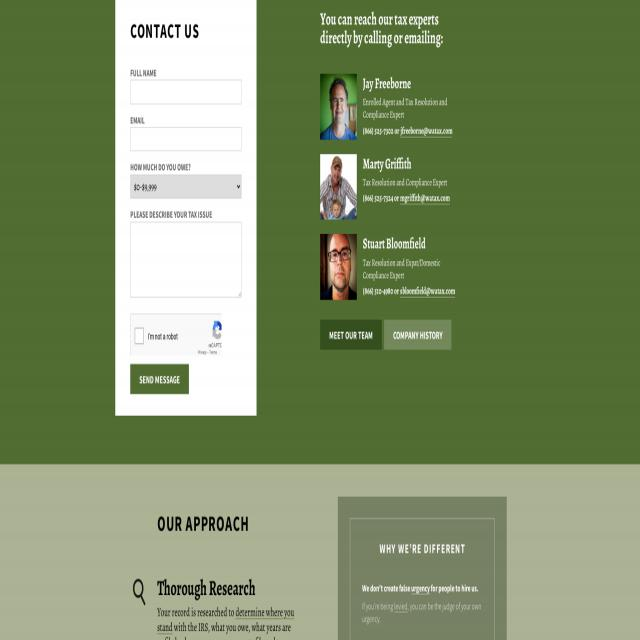button: (320, 154, 357, 220), (320, 234, 357, 300), (320, 74, 357, 139), (384, 320, 452, 350), (320, 320, 382, 350), (130, 364, 189, 395), (133, 579, 145, 606)
field: (131, 220, 241, 298), (130, 80, 242, 104), (130, 127, 242, 151), (130, 175, 242, 198), (135, 327, 143, 343)
